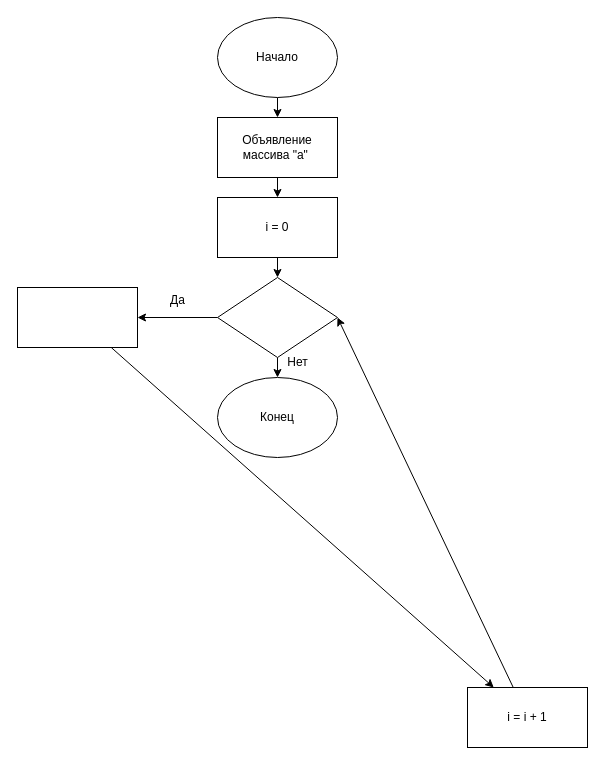
Image size: 605x765. Some labels were removed from this diagram. The shapes that lost their labels are listed below. From the top down, each one's centre as x and y in pixels, then its label:
the point at 77,317: вывод массива "a"
the point at 277,317: i < длина массива
